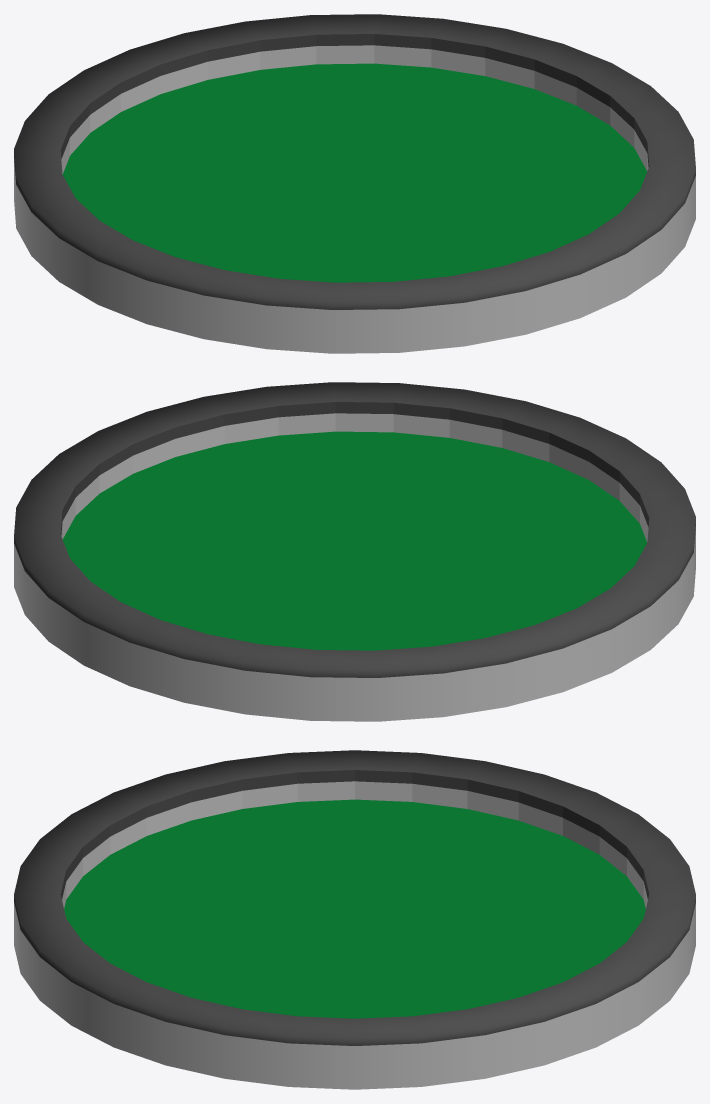
The model's file is Flowerbed-08.fbx.
3 renders of one model, top to bottom at view 1: azimuth 30°, elevation 25°; view 2: azimuth 150°, elevation 25°; view 3: azimuth 270°, elevation 25°, orthographic.
Visible parts, largest first — view 1: Flowerbed-08; view 2: Flowerbed-08; view 3: Flowerbed-08.
Boxes of the visible parts, box(x1,y1,x2,y2) form: Flowerbed-08: box(14, 14, 695, 353); Flowerbed-08: box(14, 382, 695, 721); Flowerbed-08: box(14, 750, 695, 1089).
Size of the model in its own units: 2 by 0.166 by 2.
